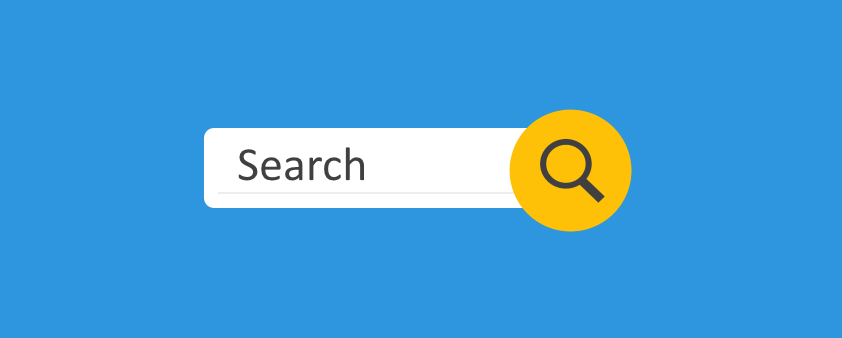search_box: (203, 128, 629, 209)
